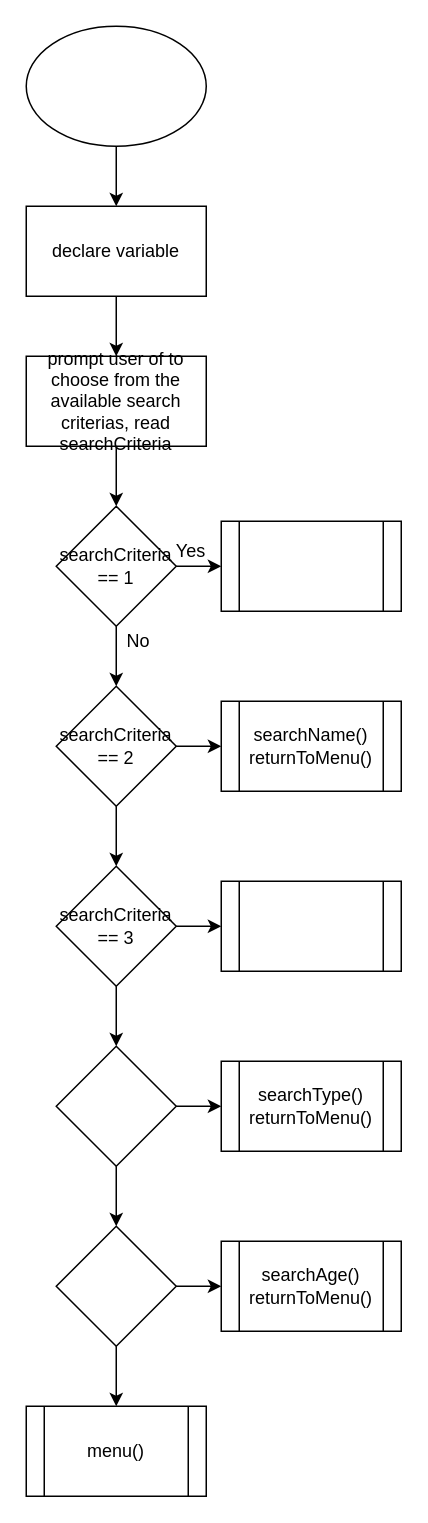
Some shapes in this 428 by 1523 pixel diagram are drawn without their labels. The shapes that lost their labels are listed below. From the top down, each one's centre as x and y in pixels, then its label:
At point 115,85: "Begin".
At point 310,565: "searchID() returnToMenu()".
At point 310,925: "searchPlan() returnToMenu()".
At point 115,1105: "searchCriteria == 4".
At point 115,1285: "searchCriteria == 5".
